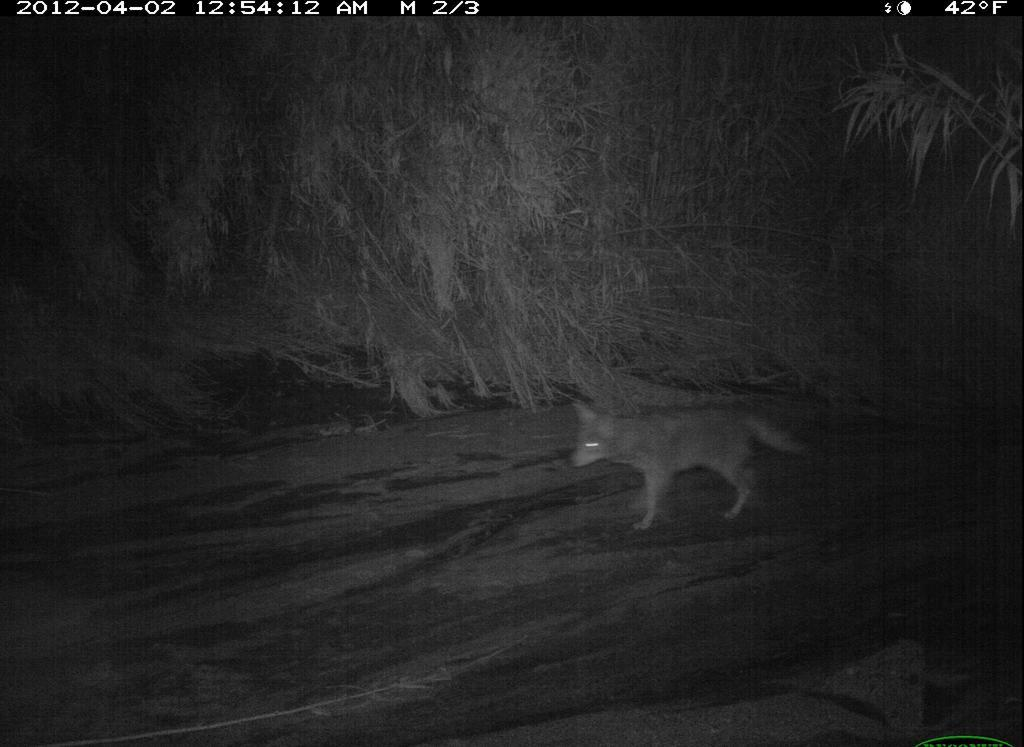coyote: (568, 396, 817, 529)
